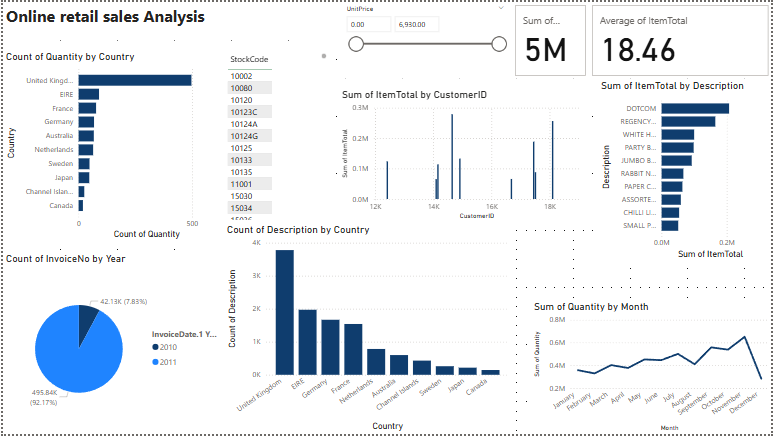

The dashboard page shown, as its layout file describes it:
{"tool":"powerbi","page":{"name":"Page 1","canvas":[1280,720],"ordinal":0},"visuals":[{"type":"textbox","box":[0,0,560,64],"z":0},{"type":"slicer","fields":{"Values":["online_retail_cleaned (2).UnitPrice"]},"box":[560,0,288,128],"z":1000},{"type":"barChart","fields":{"Y":["Count(online_retail_cleaned (2).Quantity)"],"Category":["online_retail_cleaned (2).Country"]},"box":[0,80,368,320],"z":2000},{"type":"pieChart","fields":{"Category":["online_retail_cleaned (2).InvoiceDate.1.Variation.Date Hierarchy.Year","online_retail_cleaned (2).InvoiceDate.1.Variation.Date Hierarchy.Month","online_retail_cleaned (2).InvoiceDate.1.Variation.Date Hierarchy.Day"],"Y":["CountNonNull(online_retail_cleaned (2).InvoiceNo)"]},"box":[0,416,368,304],"z":3000},{"type":"clusteredColumnChart","fields":{"Category":["online_retail_cleaned (2).Country"],"Y":["Count(online_retail_cleaned (2).Description)"]},"box":[368,368,480,352],"z":4000},{"type":"lineChart","fields":{"Category":["online_retail_cleaned (2).InvoiceDate.1.Variation.Date Hierarchy.Month","online_retail_cleaned (2).InvoiceDate.1.Variation.Date Hierarchy.Day"],"Y":["Sum(online_retail_cleaned (2).Quantity)"]},"box":[880,496,400,224],"z":5000},{"type":"barChart","fields":{"Category":["online_retail_cleaned (2).Description"],"Y":["Sum(online_retail_cleaned (2).ItemTotal)"]},"box":[992,128,288,304],"z":6000},{"type":"cardVisual","fields":{"Data":["Avg(online_retail_cleaned (2).ItemTotal)"]},"box":[976,0,304,128],"z":7000},{"type":"tableEx","fields":{"Values":["online_retail_cleaned (2).StockCode"]},"box":[368,80,176,288],"z":8000},{"type":"cardVisual","fields":{"Data":["Sum(online_retail_cleaned (2).Quantity)"]},"box":[848,0,128,128],"z":9000},{"type":"columnChart","fields":{"Category":["online_retail_cleaned (2).CustomerID"],"Y":["Sum(online_retail_cleaned (2).ItemTotal)"]},"box":[560,144,416,224],"z":9001}]}

Visuals, with their boxes in screenshot pixels (x1, y1, x2, y2), scaled from the page's 1280x720 canvas onto the 773x436 screenshot:
textbox: (x1=0, y1=0, x2=338, y2=39)
slicer - online_retail_cleaned (2).UnitPrice: (x1=338, y1=0, x2=512, y2=78)
barChart - Count(online_retail_cleaned (2).Quantity) x online_retail_cleaned (2).Country: (x1=0, y1=48, x2=222, y2=242)
pieChart - online_retail_cleaned (2).InvoiceDate.1.Variation.Date Hierarchy.Year x online_retail_cleaned (2).InvoiceDate.1.Variation.Date Hierarchy.Month: (x1=0, y1=252, x2=222, y2=435)
clusteredColumnChart - online_retail_cleaned (2).Country x Count(online_retail_cleaned (2).Description): (x1=222, y1=223, x2=512, y2=435)
lineChart - online_retail_cleaned (2).InvoiceDate.1.Variation.Date Hierarchy.Month x online_retail_cleaned (2).InvoiceDate.1.Variation.Date Hierarchy.Day: (x1=531, y1=300, x2=772, y2=435)
barChart - online_retail_cleaned (2).Description x Sum(online_retail_cleaned (2).ItemTotal): (x1=599, y1=78, x2=772, y2=262)
cardVisual - Avg(online_retail_cleaned (2).ItemTotal): (x1=589, y1=0, x2=772, y2=78)
tableEx - online_retail_cleaned (2).StockCode: (x1=222, y1=48, x2=329, y2=223)
cardVisual - Sum(online_retail_cleaned (2).Quantity): (x1=512, y1=0, x2=589, y2=78)
columnChart - online_retail_cleaned (2).CustomerID x Sum(online_retail_cleaned (2).ItemTotal): (x1=338, y1=87, x2=589, y2=223)
